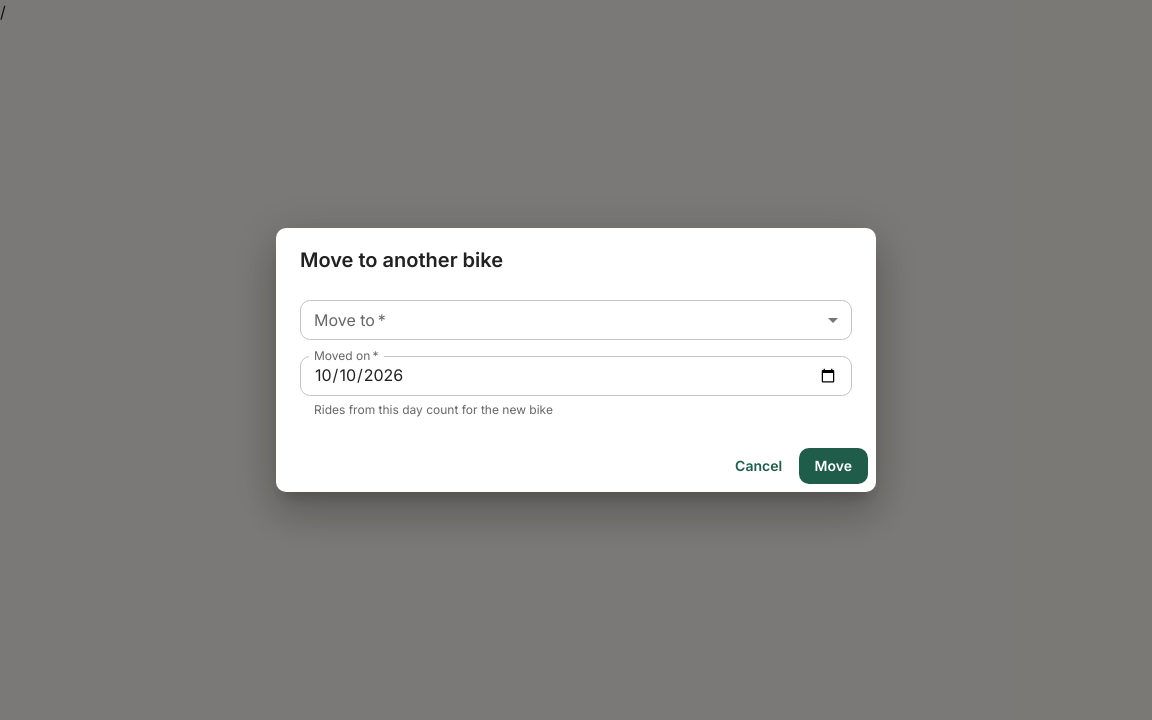
Test: MoveComponentDialog › server errors show under the fields
Click the dropdown named "Move to" at coordinates (576, 320), box [300,300,852,340]
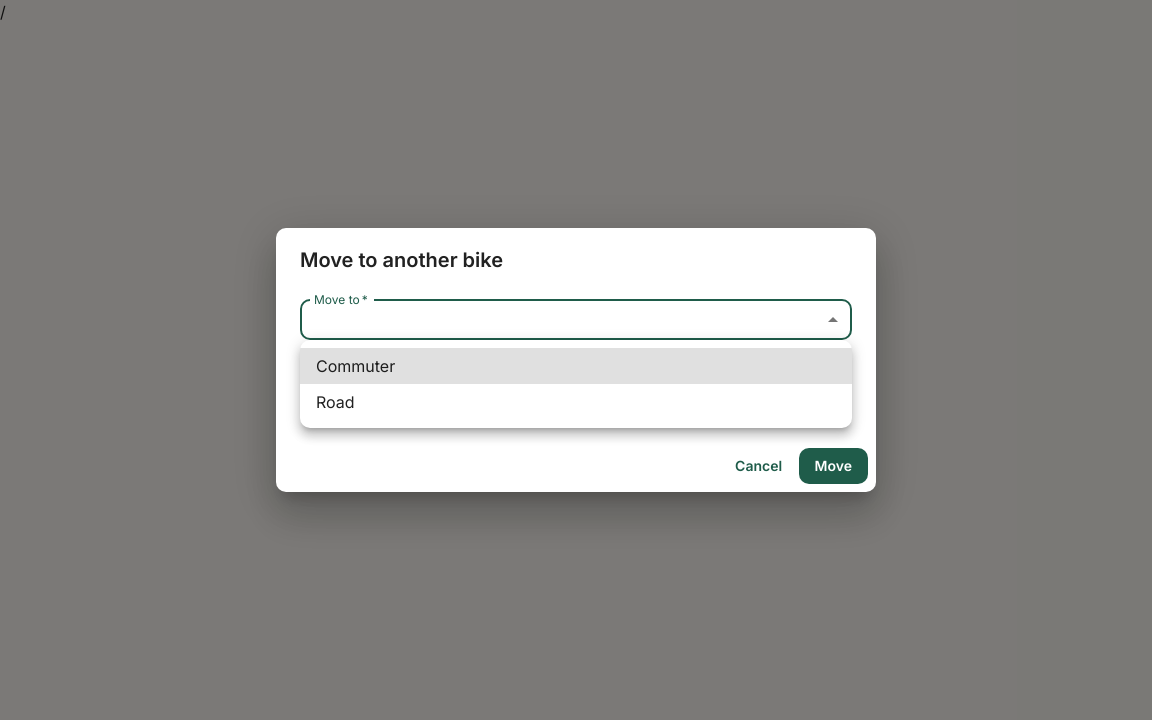
Click the option "Road" at coordinates (335, 402), box [316,392,355,412]
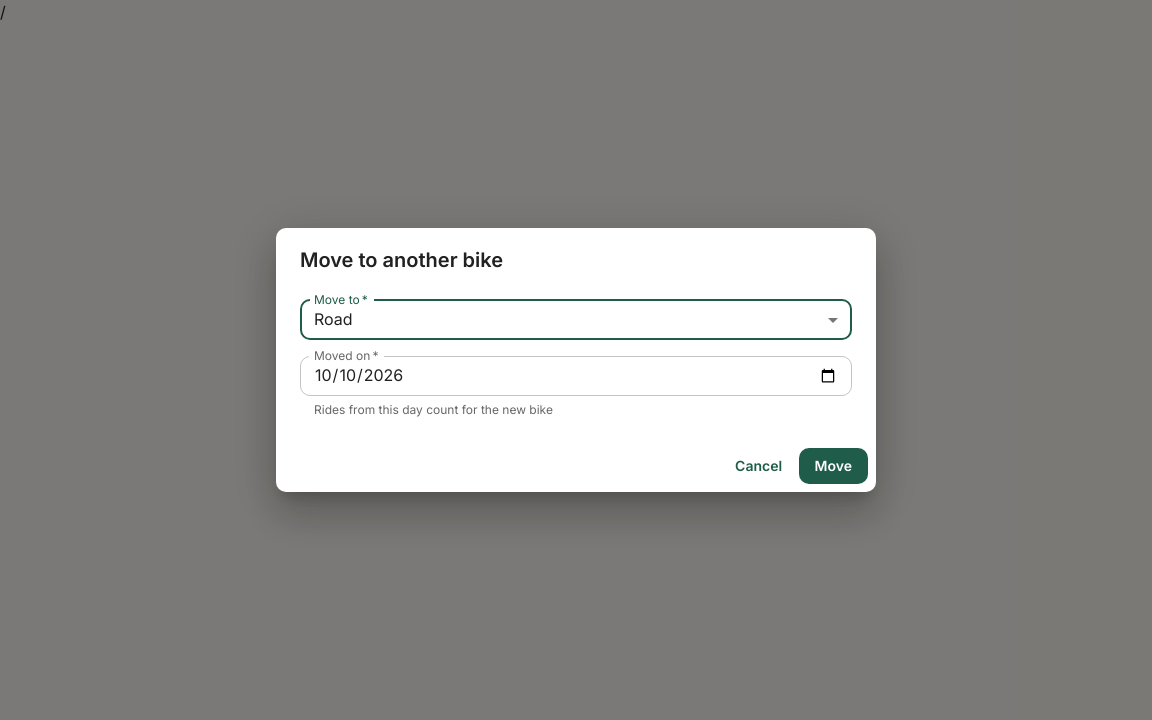
Click the button "Move" at coordinates (833, 466), box [799,448,868,484]
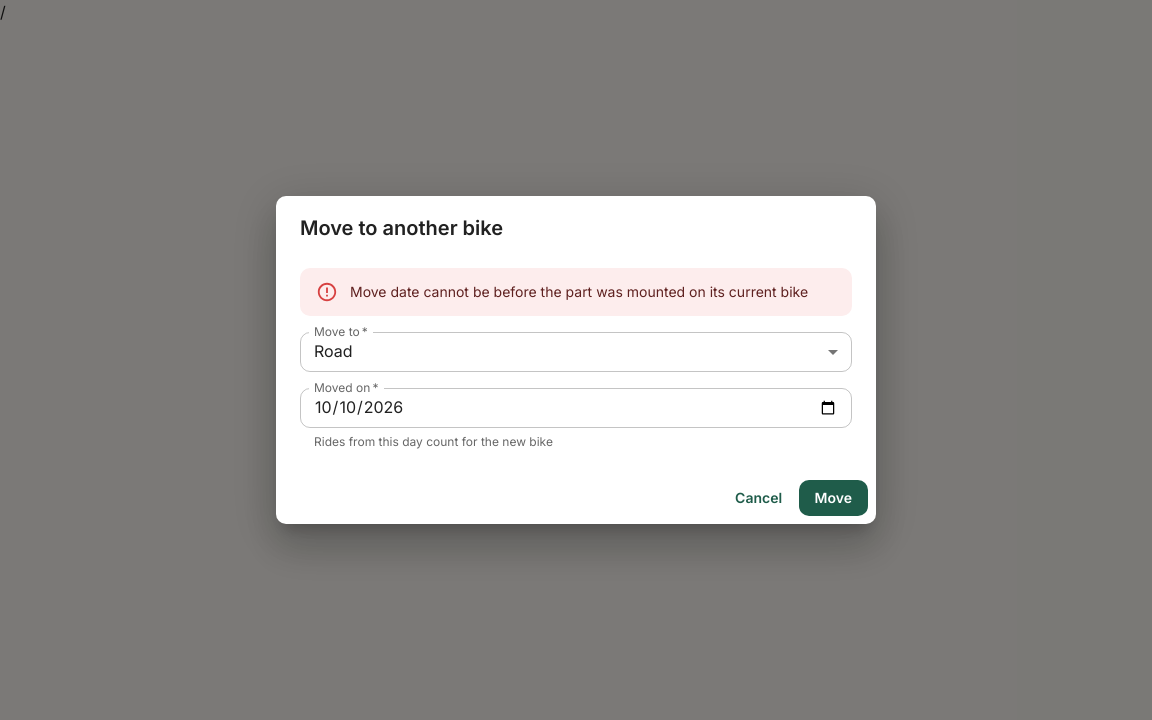
Expected: the message shows "Move date cannot be before", [350,283,808,300]
